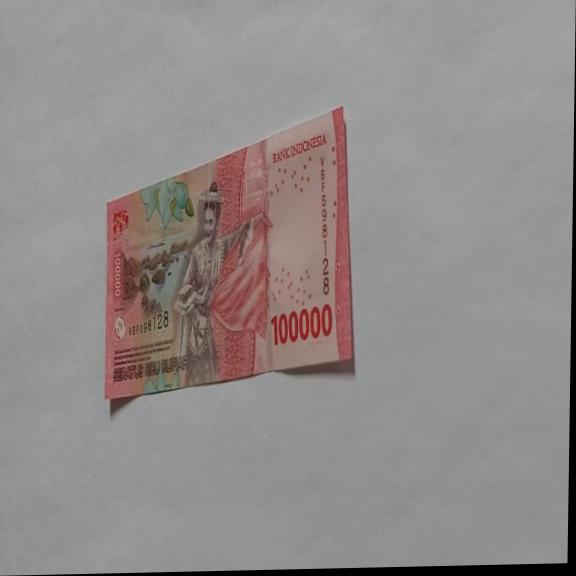Kertas: (102, 104, 359, 403), (270, 302, 333, 346)
